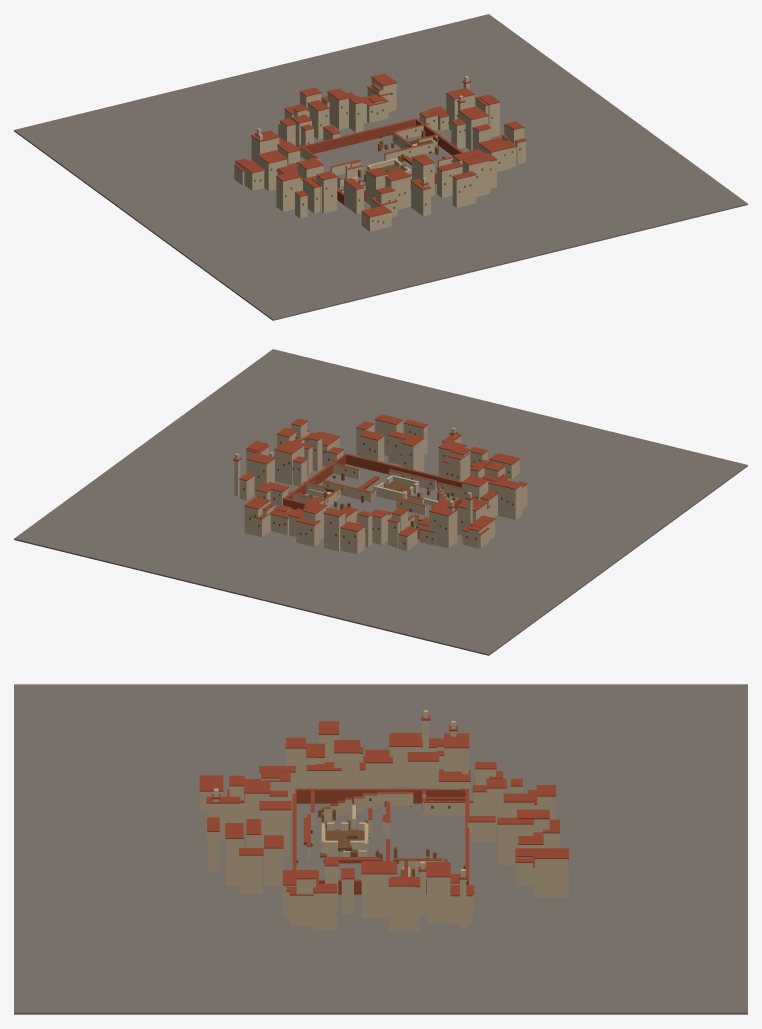
The model's file is de_aq_inferno.glb.
3 views of the same model, one above another, from view 1: azimuth 30°, elevation 25°; view 2: azimuth 150°, elevation 25°; view 3: azimuth 270°, elevation 25° (orthographic). The views are drawn at different scales.
Visible parts, largest first — view 1: skyline, de_aq_inferno; view 2: skyline, de_aq_inferno; view 3: skyline, de_aq_inferno.
Boxes of the visible parts, left/top/right/bottom form: skyline: left=14, top=14, right=747, bottom=320; de_aq_inferno: left=297, top=118, right=463, bottom=204; skyline: left=14, top=349, right=747, bottom=655; de_aq_inferno: left=283, top=453, right=461, bottom=539; skyline: left=14, top=684, right=747, bottom=1014; de_aq_inferno: left=292, top=788, right=473, bottom=894.
Bounding box in the file's own units: 13840 × 1340 × 13072.
